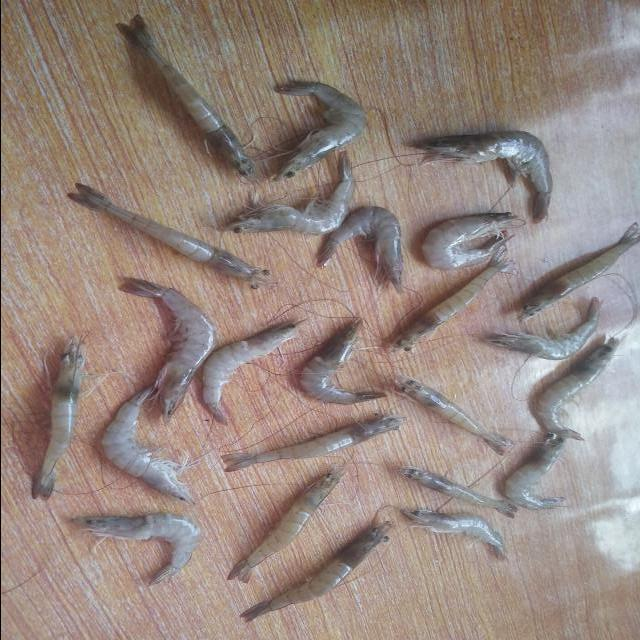shrimp: (116, 14, 258, 182), (67, 183, 273, 289), (240, 521, 391, 623), (119, 278, 215, 423), (227, 469, 345, 584), (391, 249, 517, 355), (413, 130, 553, 223), (518, 222, 640, 321), (216, 151, 354, 235), (100, 386, 193, 505), (202, 321, 304, 425), (221, 415, 405, 472), (395, 375, 514, 455), (273, 80, 366, 181), (72, 514, 199, 587), (30, 338, 84, 500), (538, 338, 620, 441), (318, 206, 403, 293), (299, 321, 386, 405), (485, 298, 601, 360), (399, 467, 519, 519), (421, 212, 522, 270), (401, 510, 506, 563), (505, 435, 567, 511)
